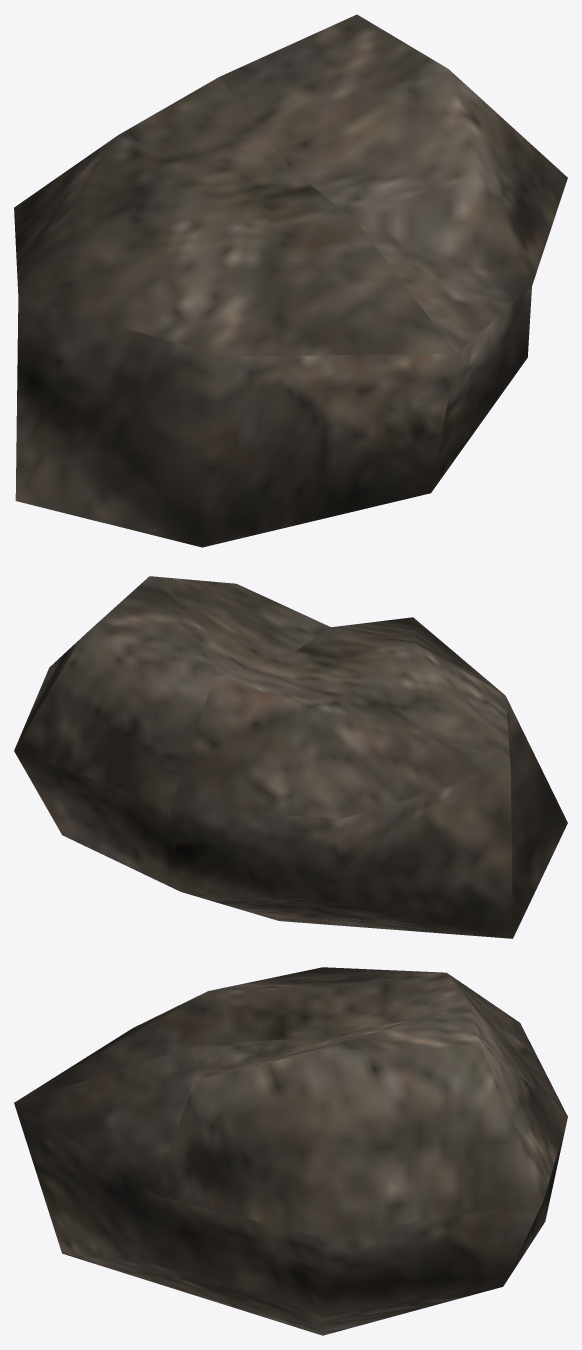
Rendered from Rock_06.glb.
3 views of the same model, one above another, from view 1: azimuth 30°, elevation 25°; view 2: azimuth 150°, elevation 25°; view 3: azimuth 270°, elevation 25° (orthographic). The views are drawn at different scales.
Parts seen in each view (by area): view 1: Rock_06.001; view 2: Rock_06.001; view 3: Rock_06.001.
Part boxes in pixels (x1,y1,x2,y2): Rock_06.001: (14, 14, 567, 547); Rock_06.001: (14, 576, 567, 938); Rock_06.001: (14, 967, 567, 1335).
Bounding box in the file's own units: 0.7214 × 0.4659 × 0.654.
1 material, 1 textured.
